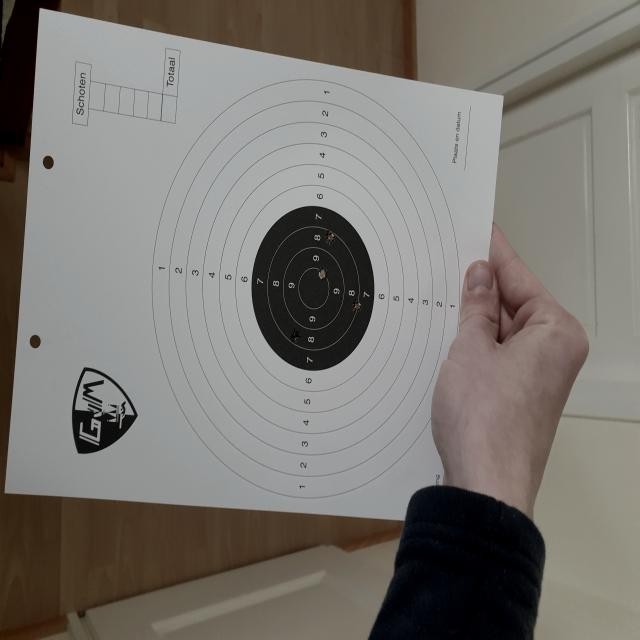10: (318, 266, 328, 282)
8: (324, 230, 336, 247), (290, 328, 302, 344), (352, 298, 362, 316)
Target: (151, 79, 460, 501)
black_contour: (252, 206, 374, 371)
